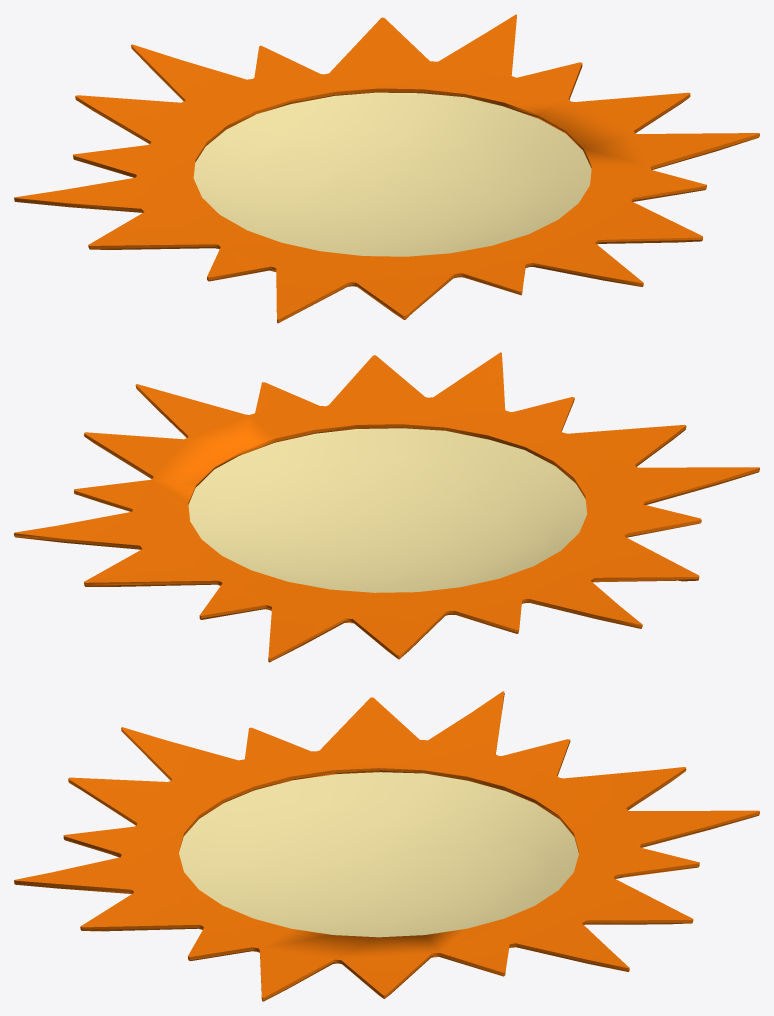
Rendered from Lamp 2.FBX.
The picture shows the model from 3 angles, top to bottom: view 1: azimuth 30°, elevation 25°; view 2: azimuth 150°, elevation 25°; view 3: azimuth 270°, elevation 25°; orthographic projection.
Visible parts, largest first — view 1: Lamp 2; view 2: Lamp 2; view 3: Lamp 2.
Boxes of the visible parts, <box> form: Lamp 2: <box>14,14,759,323</box>; Lamp 2: <box>14,352,759,662</box>; Lamp 2: <box>14,691,759,1001</box>.
Size of the model in its own units: 707 by 727 by 51.52.
